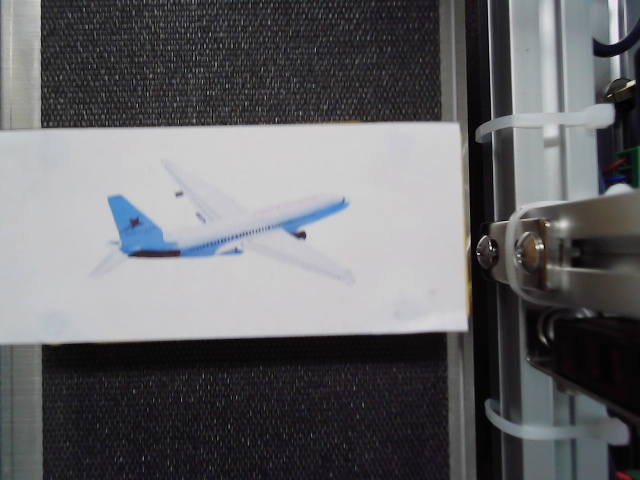airplane: (93, 156, 355, 285)
